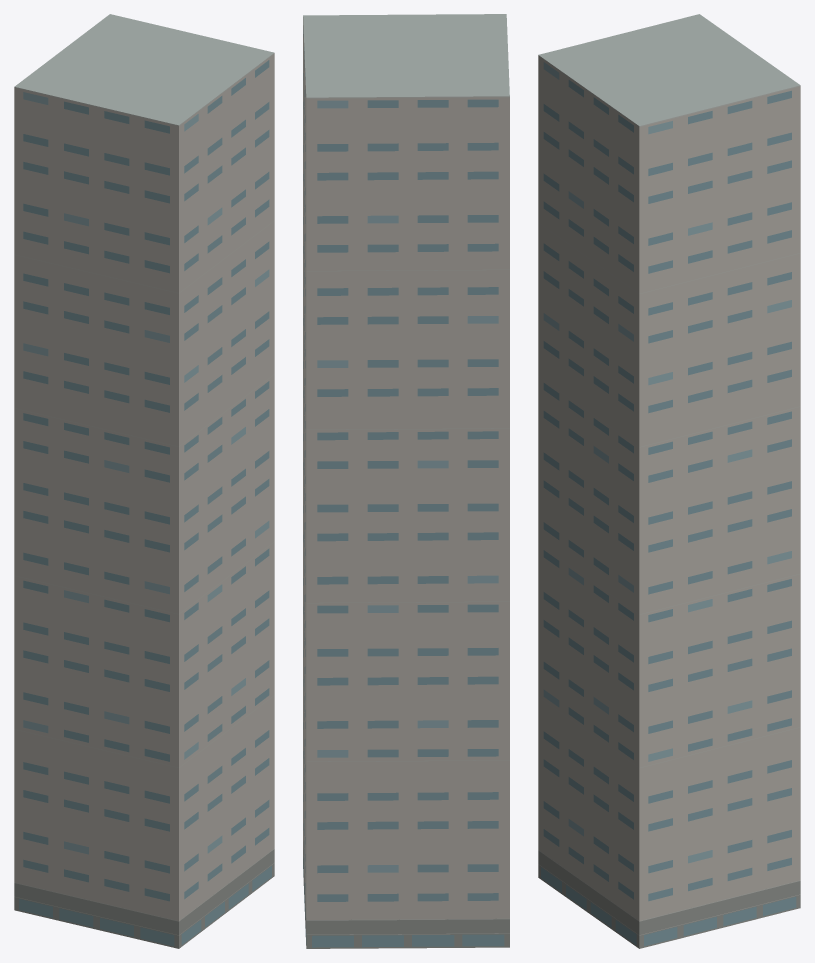
The model's file is residential-2d2c76d4-7f8d-48f7-895a-eb2cd30da173.glb.
The picture shows the model from 3 angles, left to right: view 1: azimuth 30°, elevation 25°; view 2: azimuth 150°, elevation 25°; view 3: azimuth 270°, elevation 25°; orthographic projection. The views are drawn at different scales.
Parts seen in each view (by area): view 1: residential-2d2c76d4-7f8d-48f7-895a-eb2cd30da173.tmp; view 2: residential-2d2c76d4-7f8d-48f7-895a-eb2cd30da173.tmp; view 3: residential-2d2c76d4-7f8d-48f7-895a-eb2cd30da173.tmp.
Boxes of the visible parts, bbox=[...] form: residential-2d2c76d4-7f8d-48f7-895a-eb2cd30da173.tmp: bbox=[14, 14, 274, 948]; residential-2d2c76d4-7f8d-48f7-895a-eb2cd30da173.tmp: bbox=[303, 14, 509, 948]; residential-2d2c76d4-7f8d-48f7-895a-eb2cd30da173.tmp: bbox=[538, 14, 800, 948].
Bounding box in the file's own units: 61.73 × 211 × 61.03.
